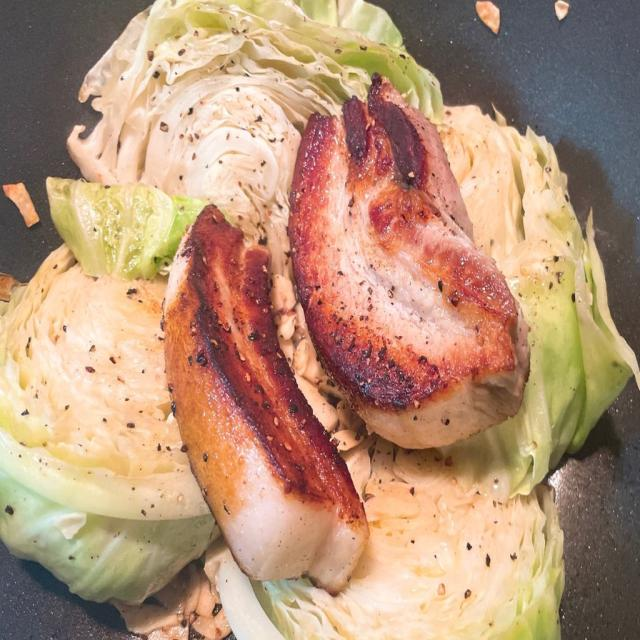overcooked pork: (275, 63, 529, 465), (147, 189, 379, 604)
